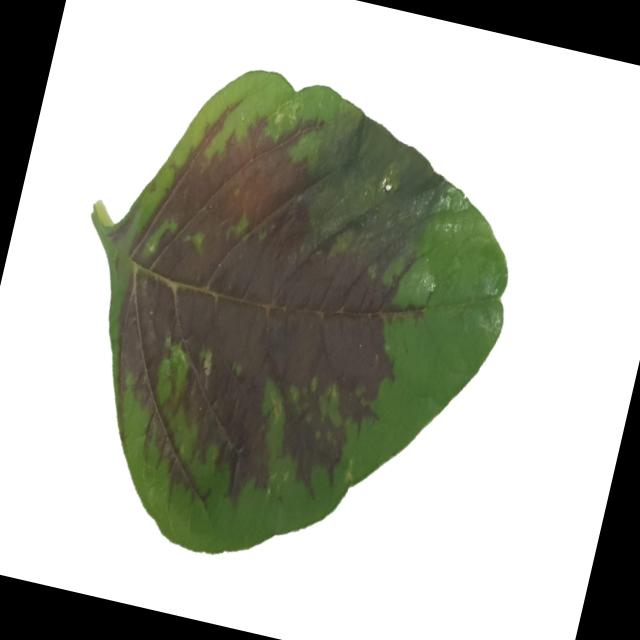Medicinal-Arive Dantu: (20, 33, 549, 606)
